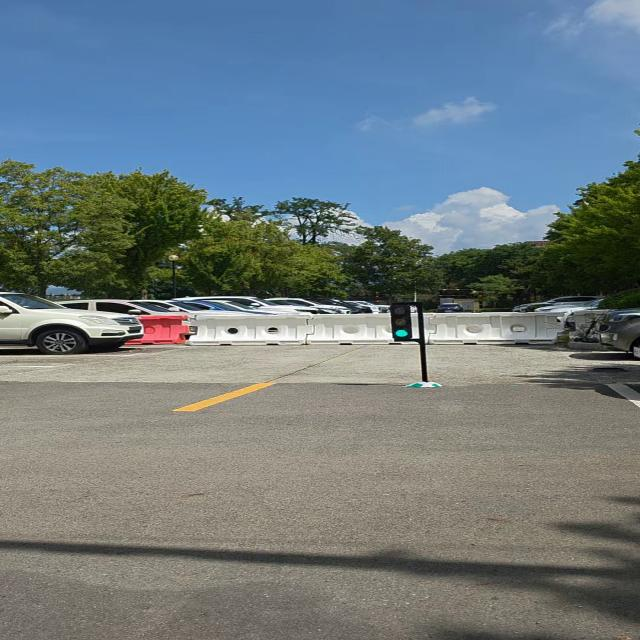green: (387, 304, 413, 344)
